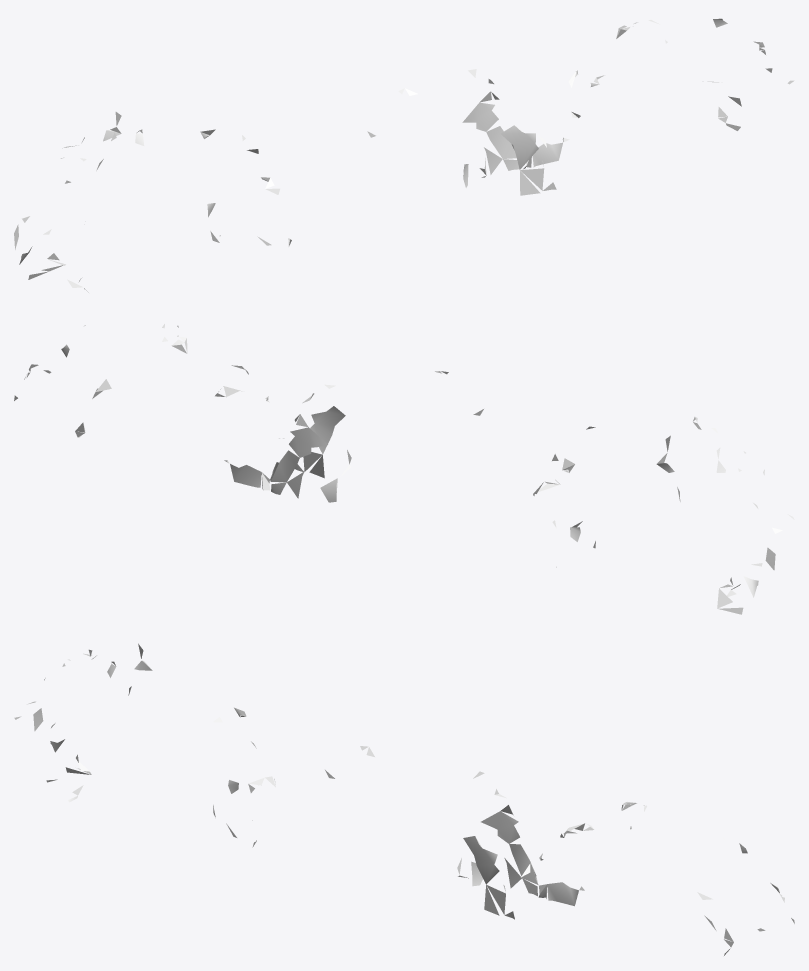
3 renders of one model, top to bottom at view 1: azimuth 30°, elevation 25°; view 2: azimuth 150°, elevation 25°; view 3: azimuth 330°, elevation 25°, orthographic.
Bounding box in the file's own units: 1.9 × 0.3716 × 0.1807.
1 material, 1 textured.
